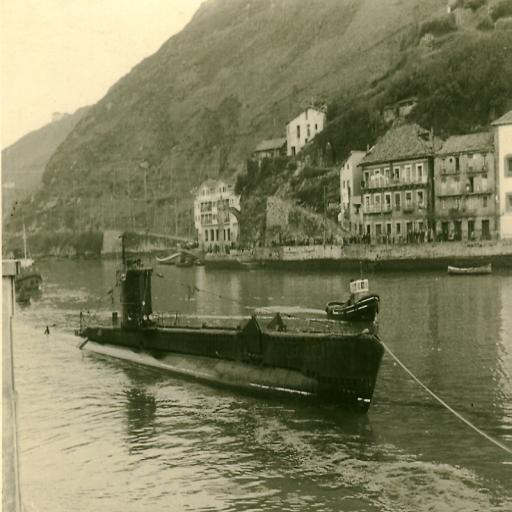submarine: (76, 271, 386, 414)
